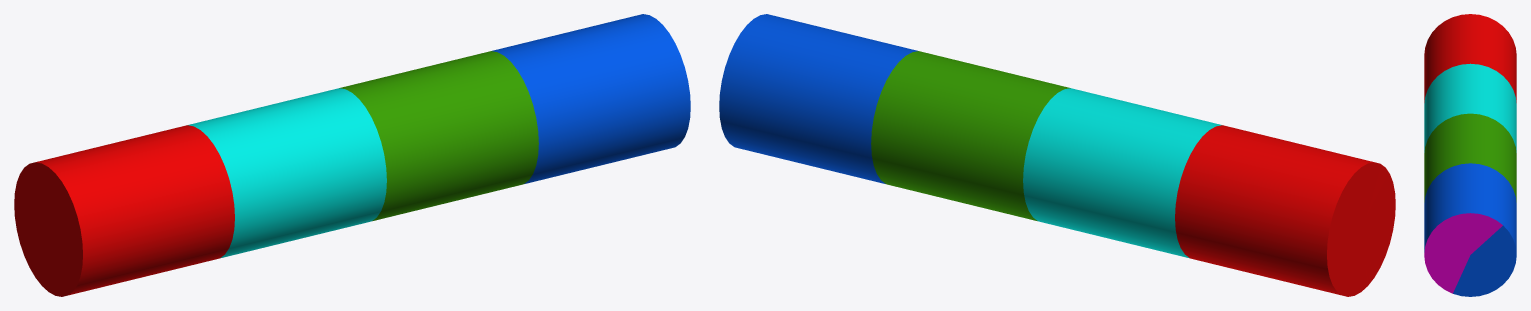
3 views of the same model, side by side, from view 1: azimuth 30°, elevation 25°; view 2: azimuth 150°, elevation 25°; view 3: azimuth 270°, elevation 25° (orthographic). The views are drawn at different scales.
Visible parts, largest first — view 1: pCylinder1; view 2: pCylinder1; view 3: pCylinder1.
Part boxes in pixels (box(x1,y1,x2,y2)): pCylinder1: box(14, 14, 690, 296); pCylinder1: box(719, 14, 1395, 296); pCylinder1: box(1424, 14, 1516, 296).
Bounding box in the file's own units: 11.2 × 2.2 × 2.2.
